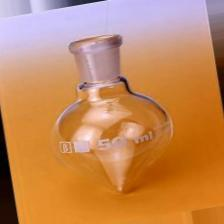Pear shaped flask: (50, 26, 176, 195)
